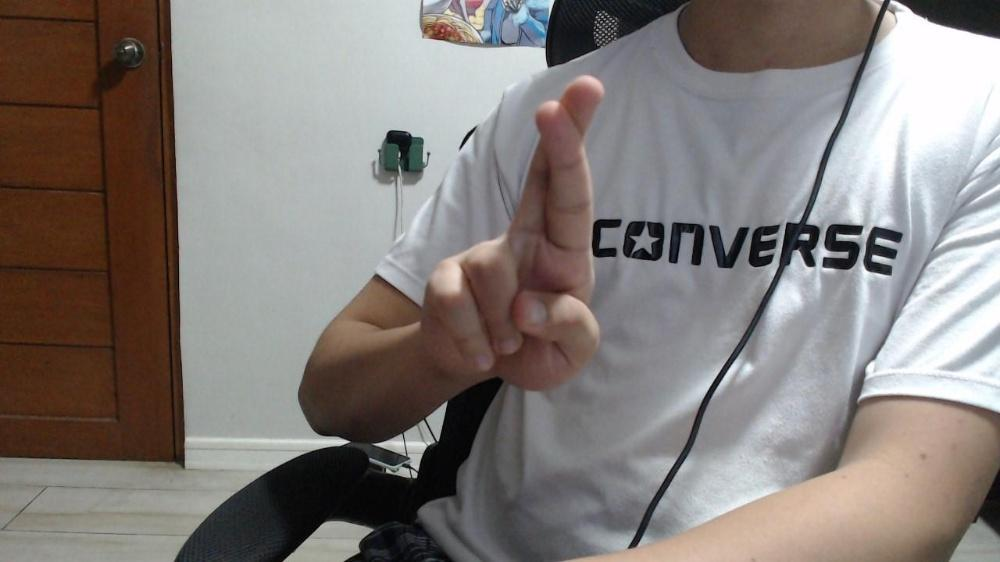r: (415, 74, 607, 392)
